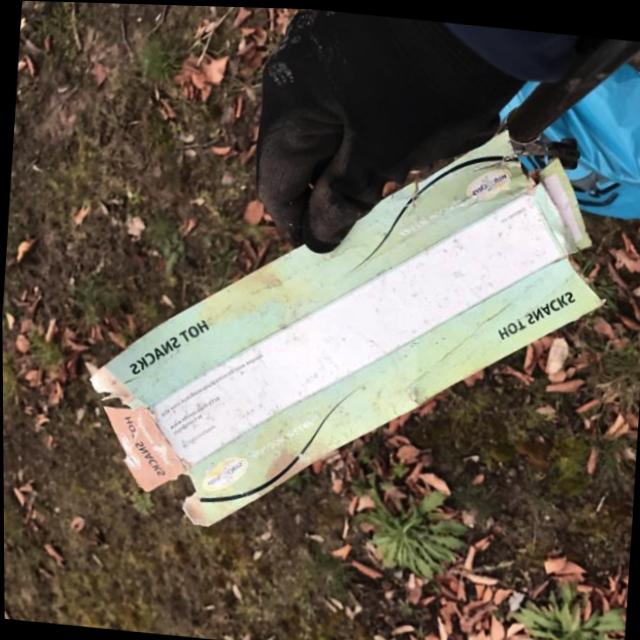Paper: (71, 84, 623, 566)
